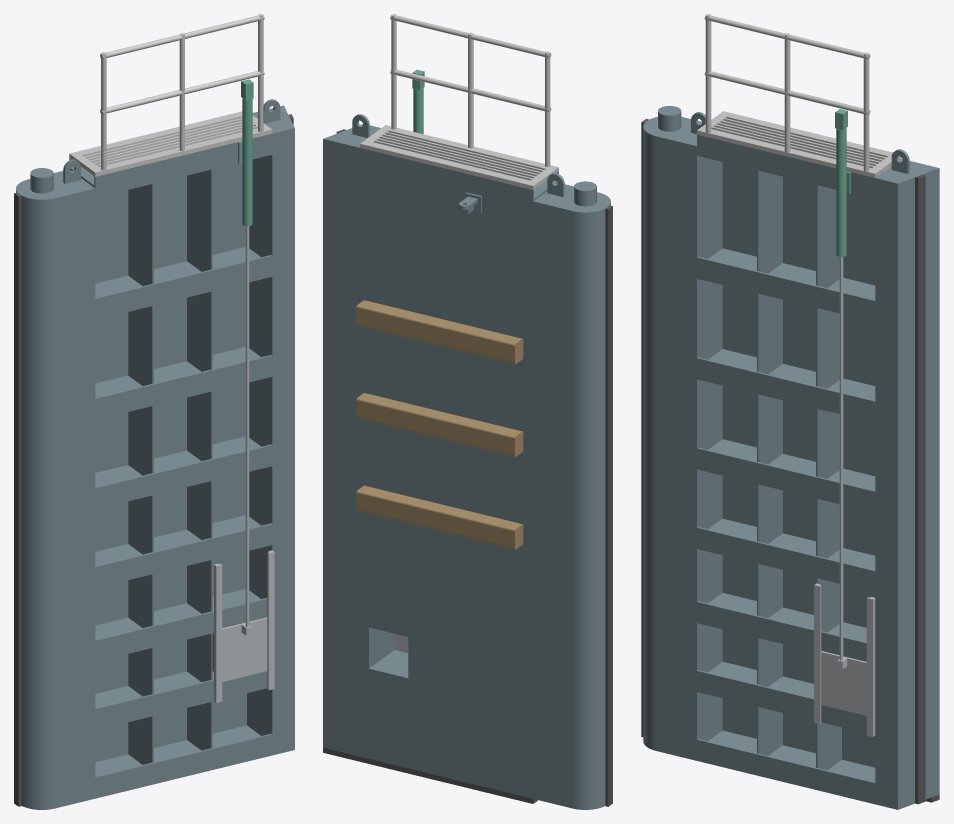
The model's file is esp2023_gate_leaf.glb.
The picture shows the model from 3 angles, left to right: view 1: azimuth 30°, elevation 25°; view 2: azimuth 150°, elevation 25°; view 3: azimuth 330°, elevation 25°; orthographic projection. The views are drawn at different scales.
Visible parts, largest first — view 1: heel post, skin plate, mitre post, stiffener 2, stiffener 1, girder 1, girder 5, girder 6, girder 7, girder 4, girder 3, walkway grating (+9 smaller); view 2: skin plate, heel post, mitre post, walkway grating, heel seal, oak fender 1, oak fender 3, oak fender 2, handrail, paddle culvert, cill seal, paddle actuator; view 3: heel post, mitre post, skin plate, stiffener 1, stiffener 2, mitre seal, girder 1, girder 5, girder 7, girder 4, girder 6, girder 3 (+10 smaller).
Boxes of the visible parts, box(x1,y1,x2,y2) form: heel post: box(16, 168, 95, 809); skin plate: box(69, 158, 246, 762); mitre post: box(247, 105, 294, 755); stiffener 2: box(187, 169, 212, 750); stiffener 1: box(128, 183, 153, 764); girder 1: box(95, 725, 272, 798); girder 5: box(95, 436, 272, 509); girder 6: box(95, 347, 272, 419); girder 7: box(95, 247, 272, 319); girder 4: box(95, 515, 272, 587); girder 3: box(95, 589, 267, 661); walkway grating: box(69, 111, 272, 176); skin plate: box(360, 148, 533, 798); heel post: box(533, 181, 610, 809); mitre post: box(323, 124, 380, 756); walkway grating: box(360, 125, 558, 189); heel seal: box(605, 205, 612, 806); oak fender 1: box(356, 485, 523, 549); oak fender 3: box(356, 300, 523, 364); oak fender 2: box(356, 393, 523, 456); handrail: box(390, 14, 551, 166); paddle culvert: box(369, 628, 408, 677); cill seal: box(323, 747, 537, 803); paddle actuator: box(412, 69, 424, 134); heel post: box(643, 106, 722, 760); mitre post: box(875, 159, 939, 809); skin plate: box(722, 162, 875, 767); stiffener 1: box(757, 170, 782, 755); stiffener 2: box(816, 185, 841, 770); mitre seal: box(915, 174, 925, 804); girder 1: box(697, 730, 875, 804); girder 5: box(697, 439, 875, 512); girder 7: box(697, 248, 875, 321); girder 4: box(697, 518, 875, 592); girder 6: box(697, 349, 875, 422); girder 3: box(697, 593, 866, 661).
Size of the model in its own units: 2790 by 7100 by 790.
